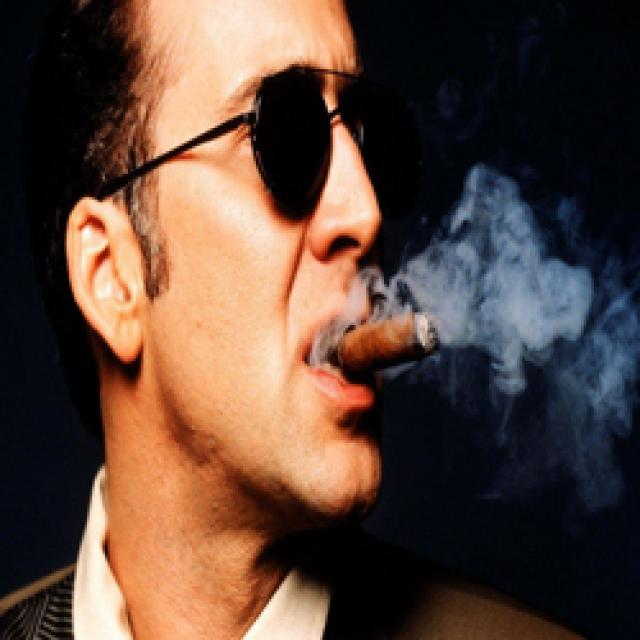Smooking: (340, 299, 449, 381)
